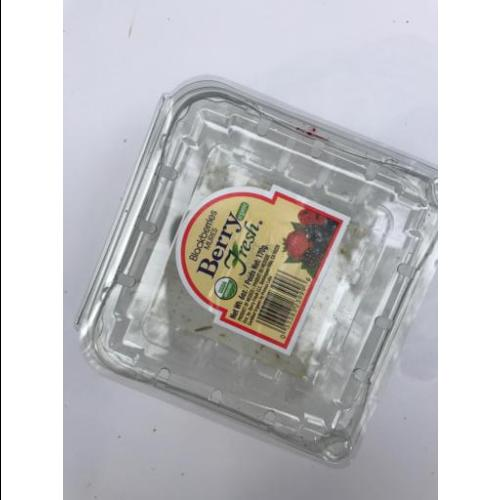plastic: (89, 77, 437, 470)
